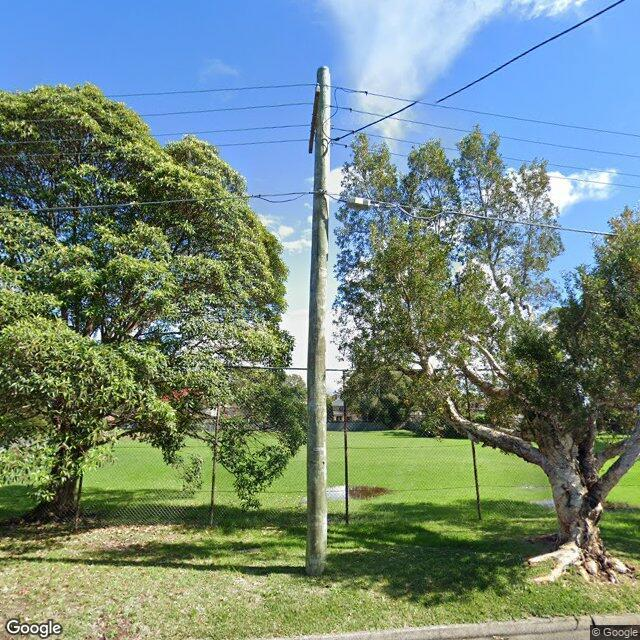crossarm: (308, 86, 322, 155)
timber-pole: (305, 64, 329, 574)
